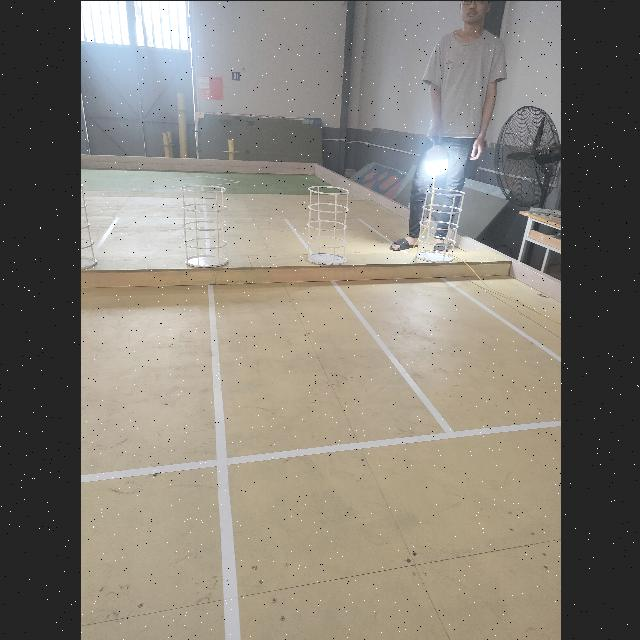S: (411, 185, 465, 264), (182, 182, 230, 270), (303, 184, 349, 268), (80, 180, 98, 273)
